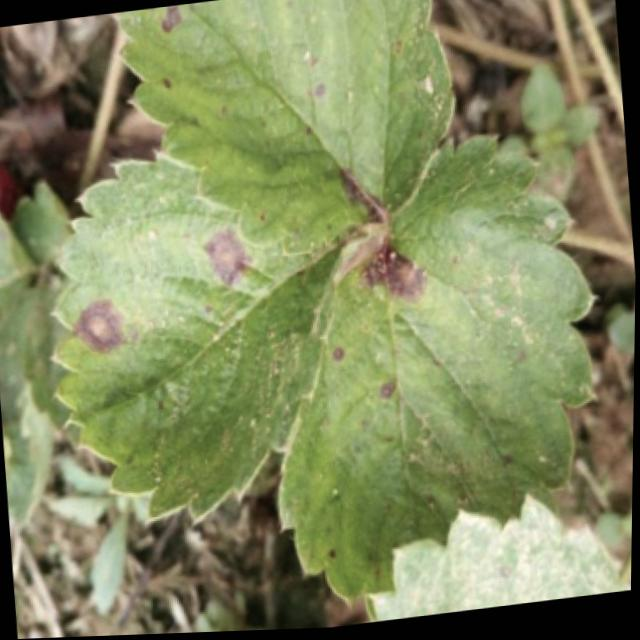Leaf Spot: (277, 135, 601, 614), (48, 149, 372, 528), (109, 0, 456, 257)
